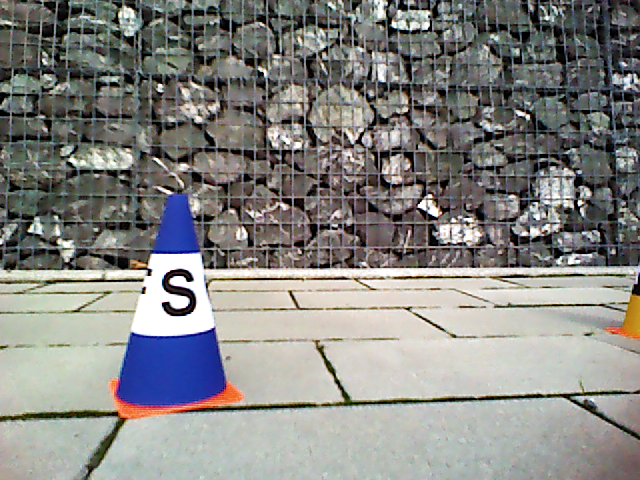bluecone: (116, 194, 229, 406)
